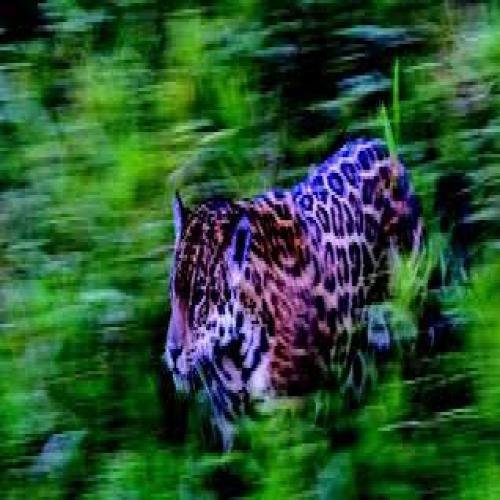jaguar_not-endangered: (162, 137, 430, 419)
